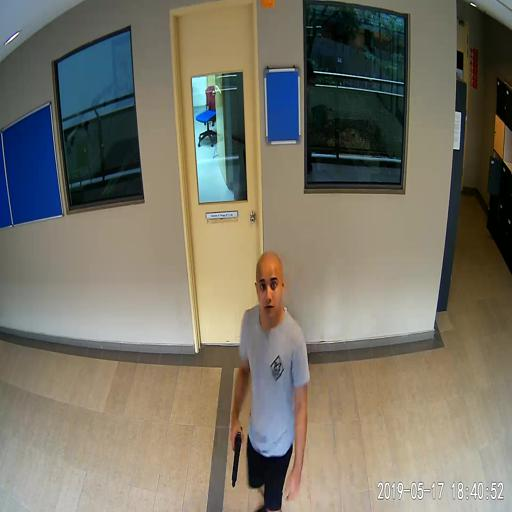pistol: (232, 425, 242, 487)
